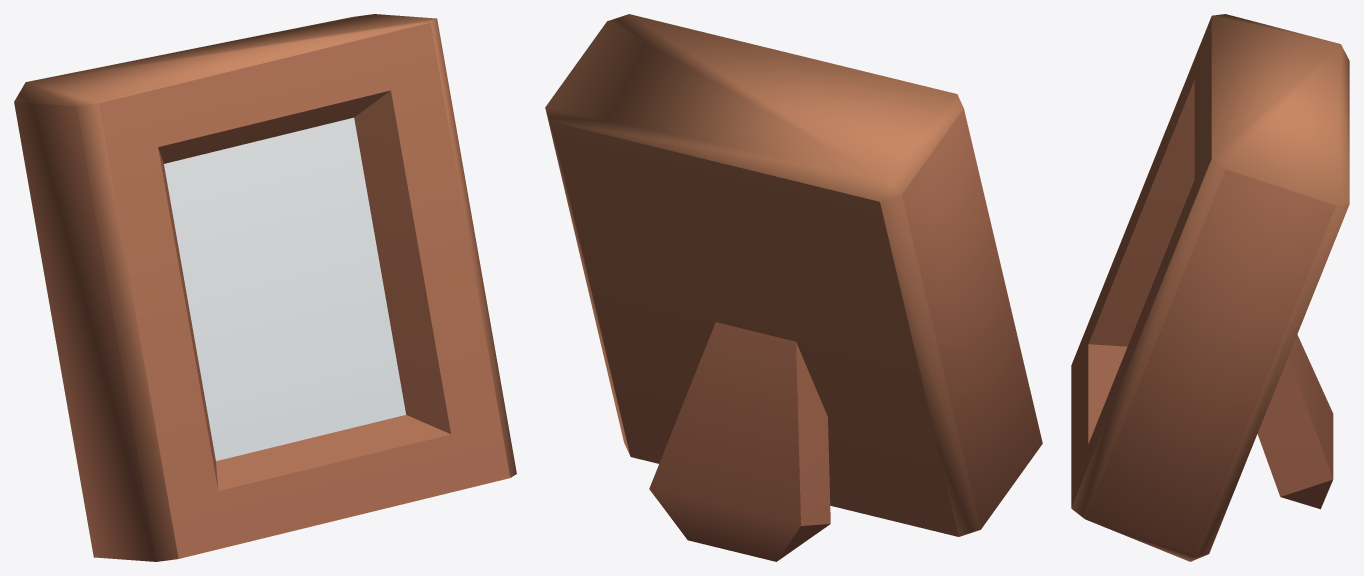
The model's file is cc0-pictureframe-standing-lod1.glb.
3 renders of one model, left to right at view 1: azimuth 30°, elevation 25°; view 2: azimuth 150°, elevation 25°; view 3: azimuth 270°, elevation 25°, orthographic. The views are drawn at different scales.
Visible parts, largest first — view 1: part_0; view 2: part_0; view 3: part_0.
Part boxes in pixels (x1=…): part_0: x1=14, y1=14, x2=516, y2=561; part_0: x1=545, y1=14, x2=1042, y2=561; part_0: x1=1071, y1=14, x2=1349, y2=561.
Bounding box in the file's own units: 0.5 × 0.6066 × 0.3795.
1 material, 1 textured.
